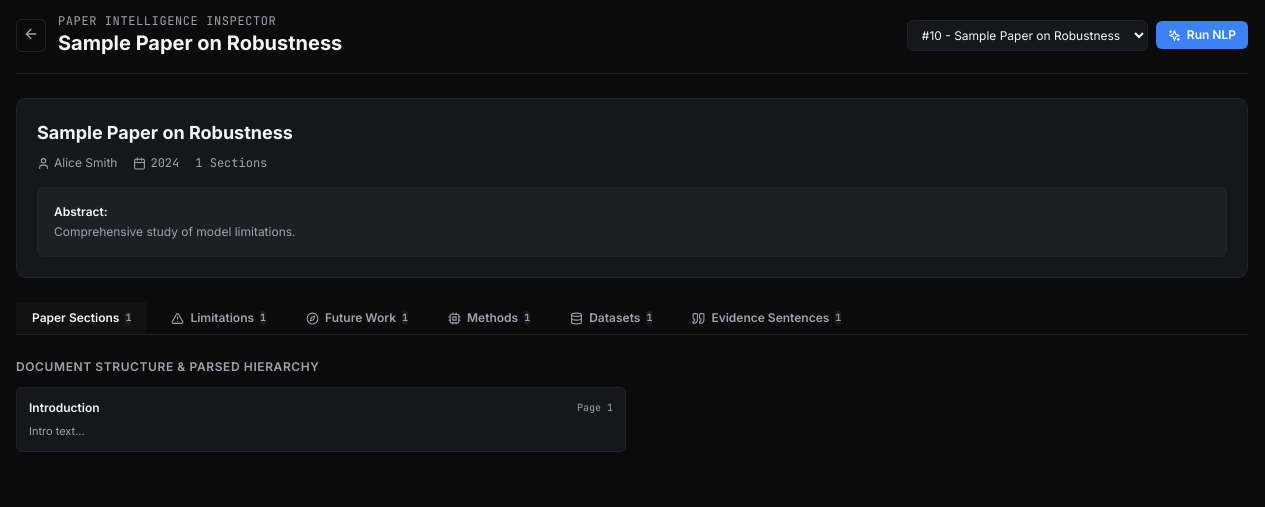
Test: PHASE 10: Research Intelligence Platform Unit & Integration Tests › 3. Paper Detail Page › renders paper detail with sections, limitations, future work, methods, datasets, and evidence
Expected: the text "Abstract: Comprehensive study of model limitations." is shown, [37, 187, 1227, 257]
Switch to Limitations tab
Click the button "Limitations 1": (219, 318) [155, 302, 282, 334]
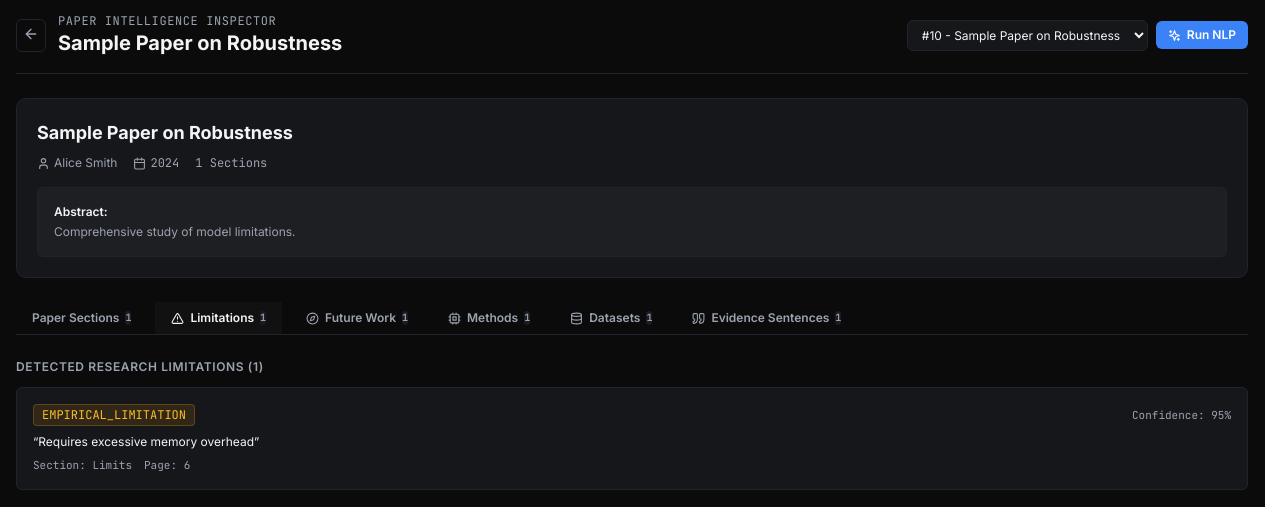
Expected: the text "“Requires excessive memory overhead”" is shown, [33, 434, 259, 449]
Switch to Methods tab
Click the button "Methods 1": (489, 318) [432, 302, 546, 334]
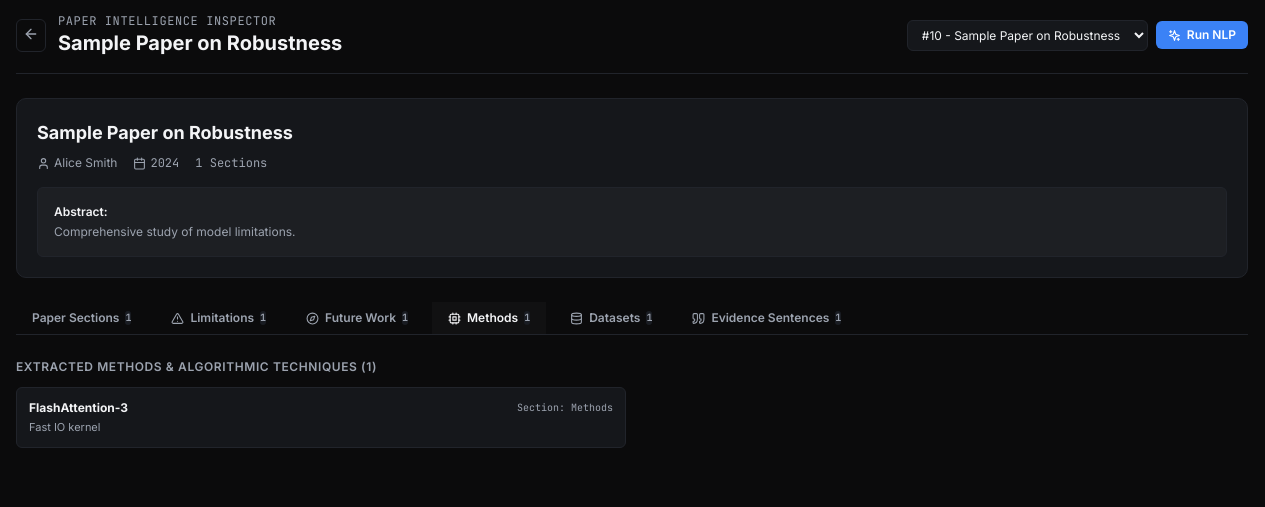
Expected: the text "FlashAttention-3" is shown, [29, 400, 128, 416]
Switch to Datasets tab
Click the button "Datasets 1": (611, 318) [554, 302, 668, 334]
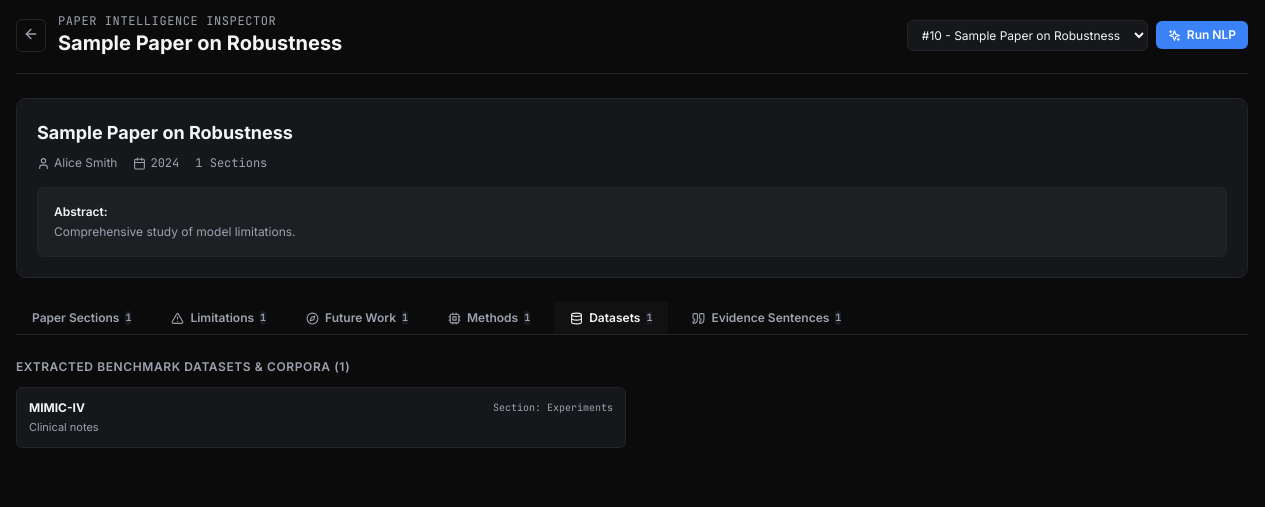
Expected: the text "MIMIC-IV" is shown, [29, 400, 85, 416]
